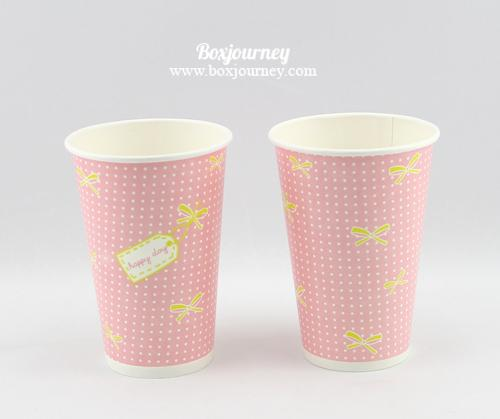PaperCup: (266, 110, 443, 374)
